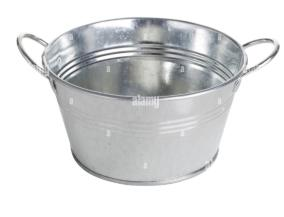SEAU: (16, 11, 284, 195)
